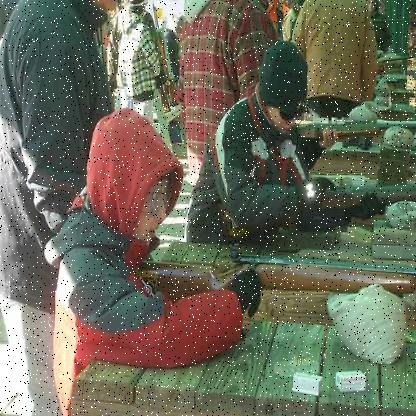rifle: (106, 244, 415, 318), (205, 174, 415, 240)
